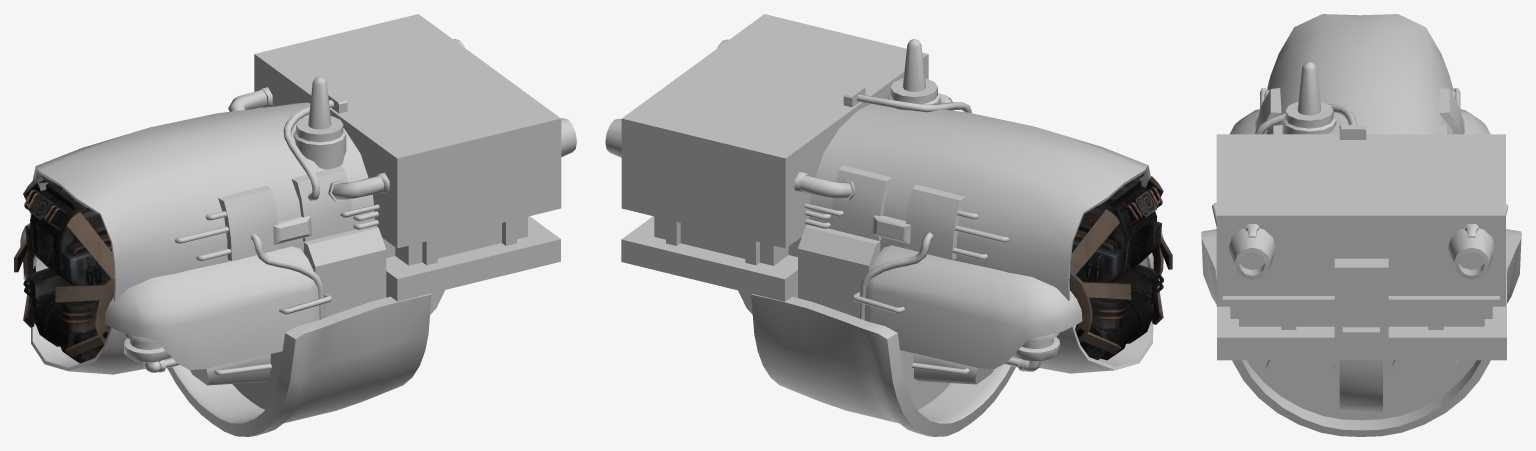
The model's file is 03_02_worker_medium_maintenance_front_open.dae.
3 renders of one model, left to right at view 1: azimuth 30°, elevation 25°; view 2: azimuth 150°, elevation 25°; view 3: azimuth 270°, elevation 25°, orthographic.
Parts seen in each view (by area): view 1: worker_medium2, polySurface383; view 2: worker_medium2, polySurface383; view 3: worker_medium2.
Boxes of the visible parts, box(x1,y1,x2,y2) form: worker_medium2: box(20, 14, 576, 436); polySurface383: box(14, 175, 114, 363); worker_medium2: box(605, 14, 1163, 436); polySurface383: box(1069, 171, 1172, 360); worker_medium2: box(1201, 14, 1521, 436).
Bounding box in the file's own units: 1.12 × 0.7719 × 0.6396.
